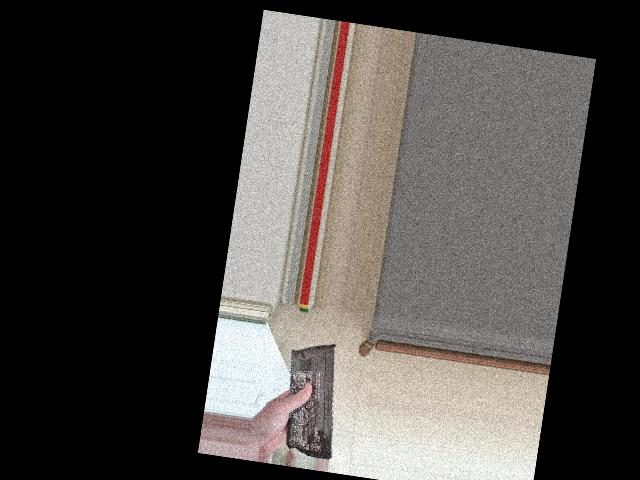chocolate: (280, 335, 346, 457)
